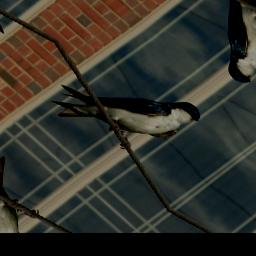Swallow: (39, 39, 207, 177)
